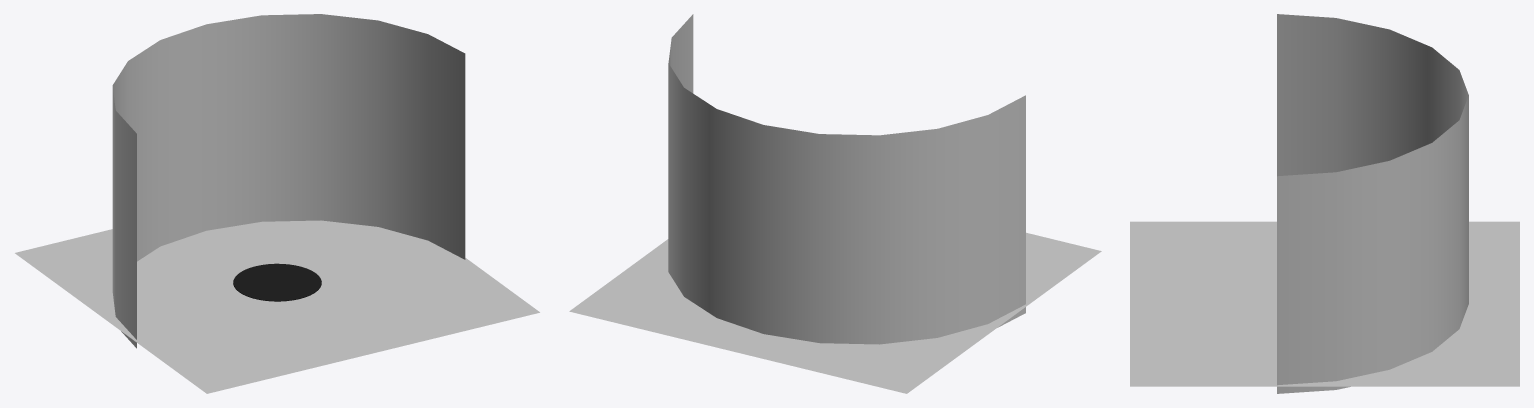
File: Environment.fbx
3 views of the same model, side by side, from view 1: azimuth 30°, elevation 25°; view 2: azimuth 150°, elevation 25°; view 3: azimuth 270°, elevation 25° (orthographic).
Visible parts, largest first — view 1: beijing, dimian, wutai1; view 2: beijing, dimian; view 3: beijing, dimian.
Part boxes in pixels (x1,y1,x2,y2): beijing: (112, 14, 465, 348); dimian: (15, 220, 539, 393); wutai1: (233, 263, 321, 301); beijing: (668, 14, 1025, 344); dimian: (569, 232, 1101, 393); beijing: (1277, 14, 1468, 393); dimian: (1130, 221, 1519, 386).
Size of the model in its own units: 276 by 170 by 276.
